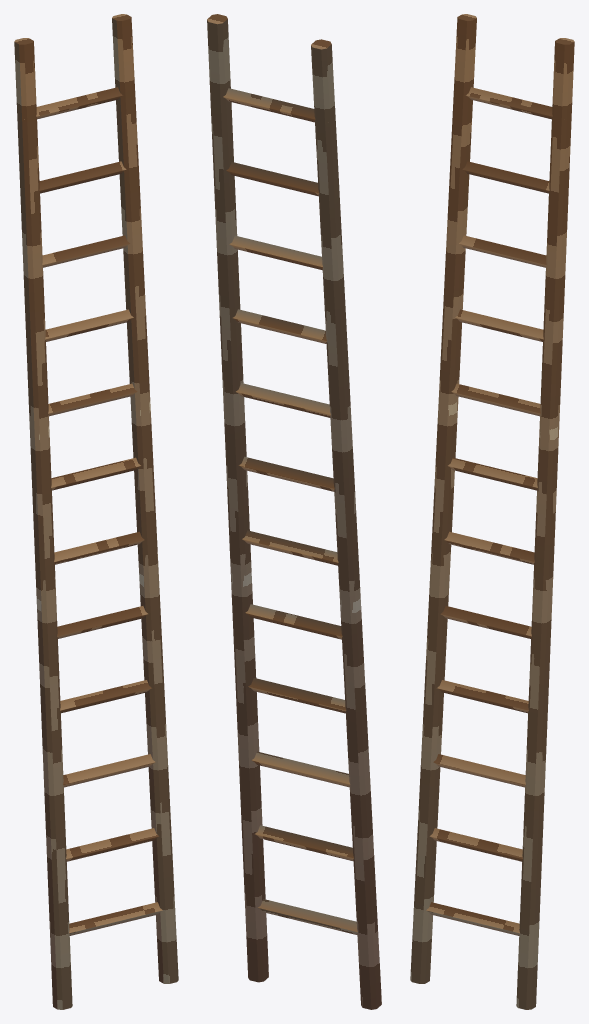
File: wmine.ladder__tall.glb
3 renders of one model, left to right at view 1: azimuth 30°, elevation 25°; view 2: azimuth 150°, elevation 25°; view 3: azimuth 330°, elevation 25°, orthographic. The views are drawn at different scales.
Visible parts, largest first — view 1: kit_poles, kit_rungs; view 2: kit_poles, kit_rungs; view 3: kit_poles, kit_rungs.
Boxes of the visible parts, x1=… form: kit_poles: x1=14, y1=14, x2=178, y2=1009; kit_rungs: x1=24, y1=87, x2=162, y2=935; kit_poles: x1=207, y1=14, x2=381, y2=1009; kit_rungs: x1=223, y1=88, x2=357, y2=934; kit_poles: x1=410, y1=14, x2=574, y2=1009; kit_rungs: x1=426, y1=87, x2=564, y2=935.
Size of the model in its own units: 0.57 by 4.21 by 0.4198.
2 materials, 2 textured.
